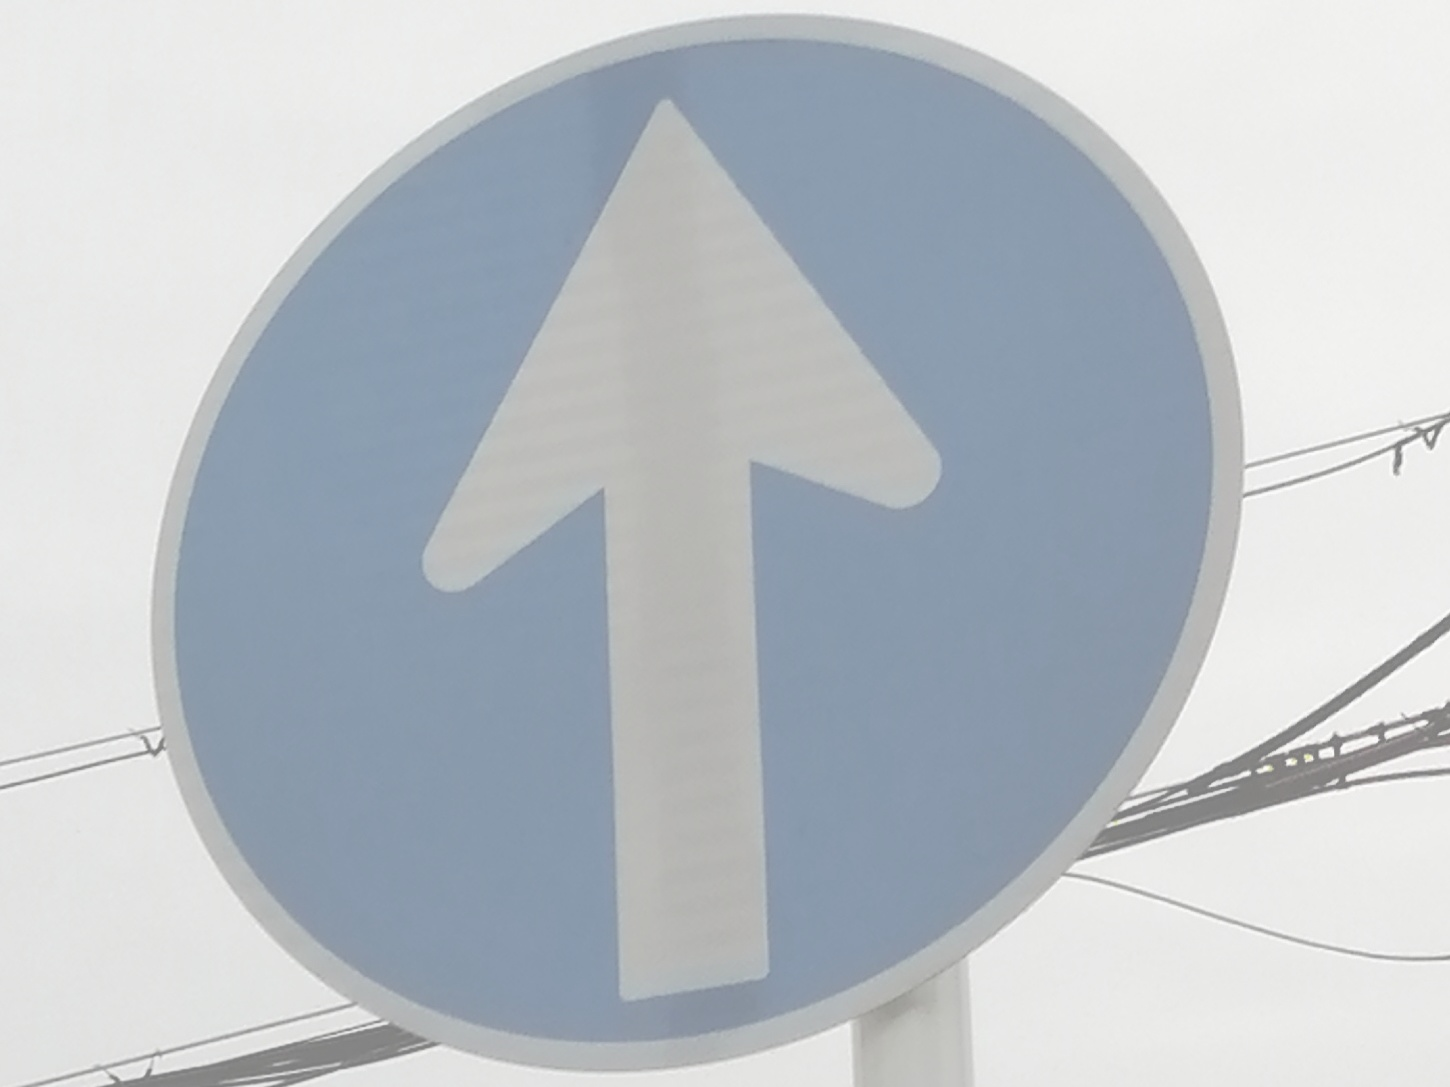Direction_sign: (53, 3, 1299, 1079)
